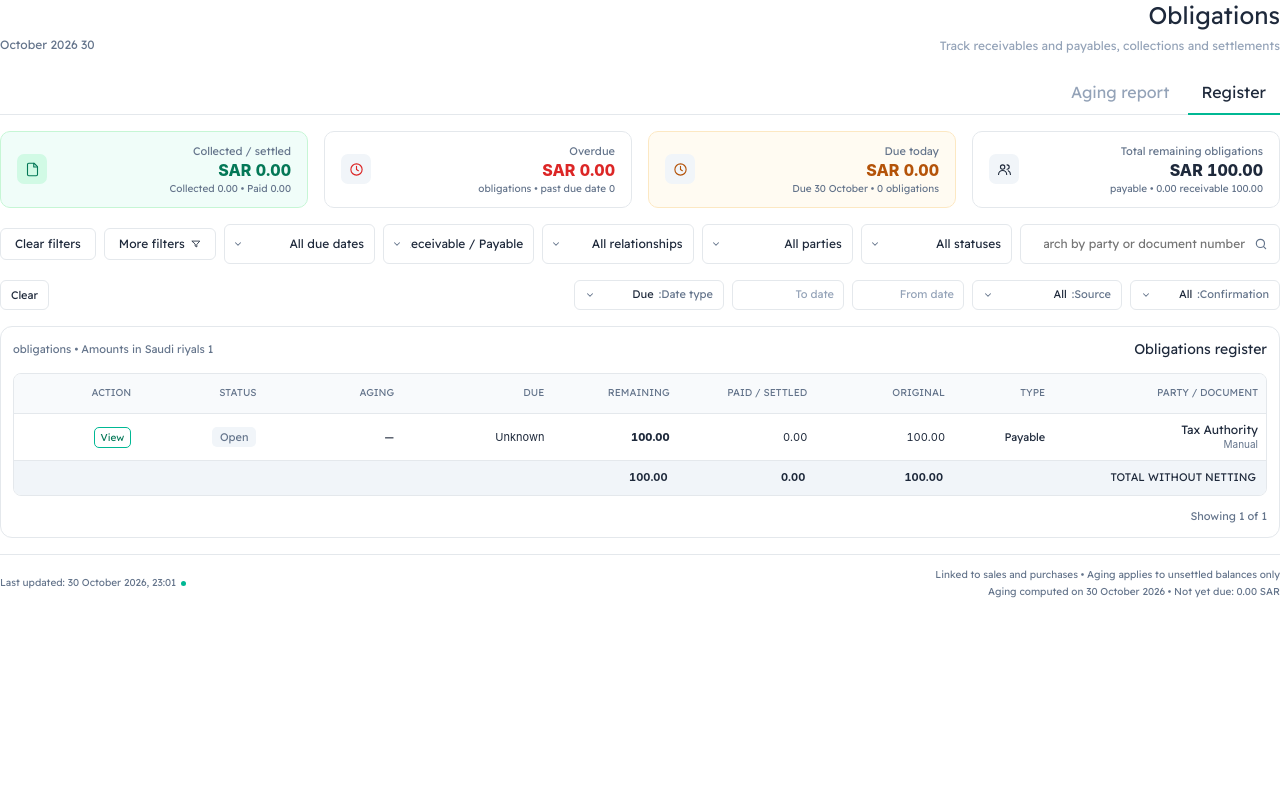
Scenario: D1/G5 government payment details UI › hides them for other counterparty types
Click the cell "Tax Authority Manual" at coordinates (1160, 437), box [1053,414,1266,461]
(page scrolled)
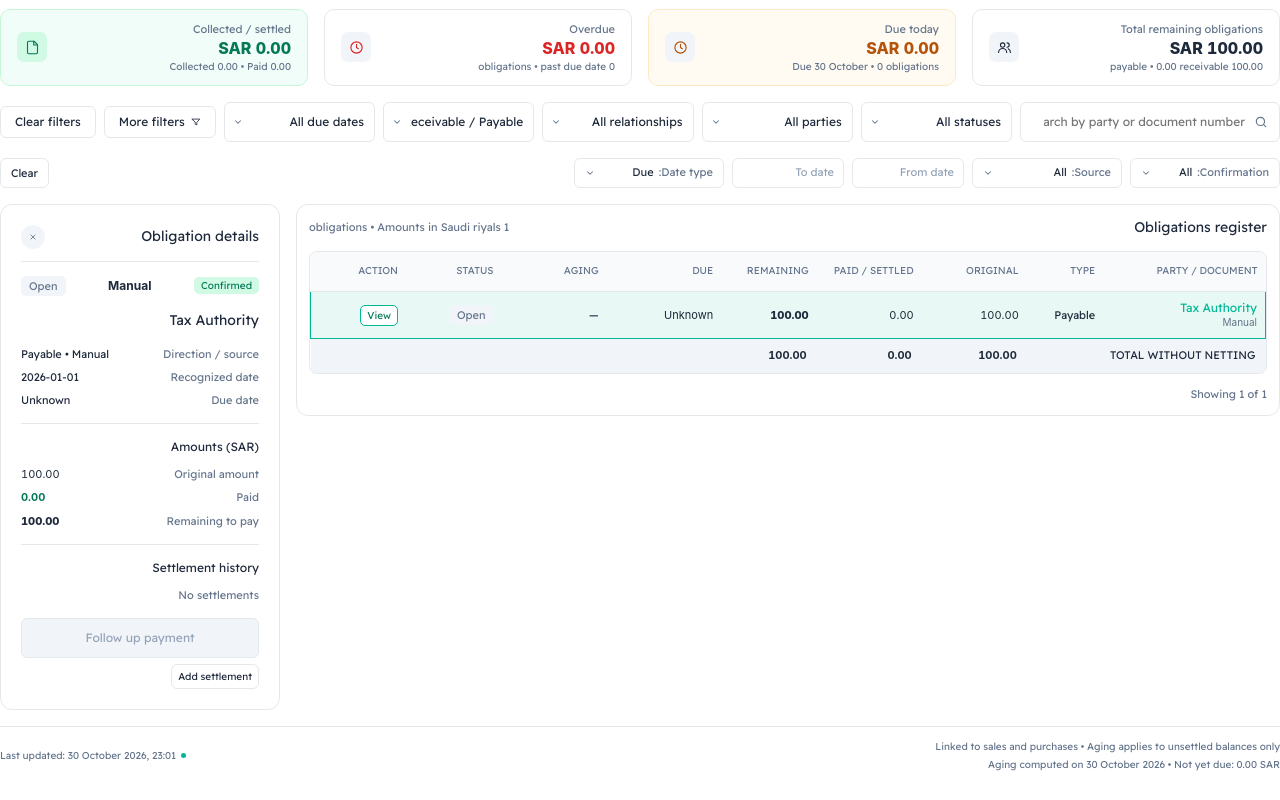
Click the button "Add settlement" at coordinates (215, 677), box [171,664,259,689]
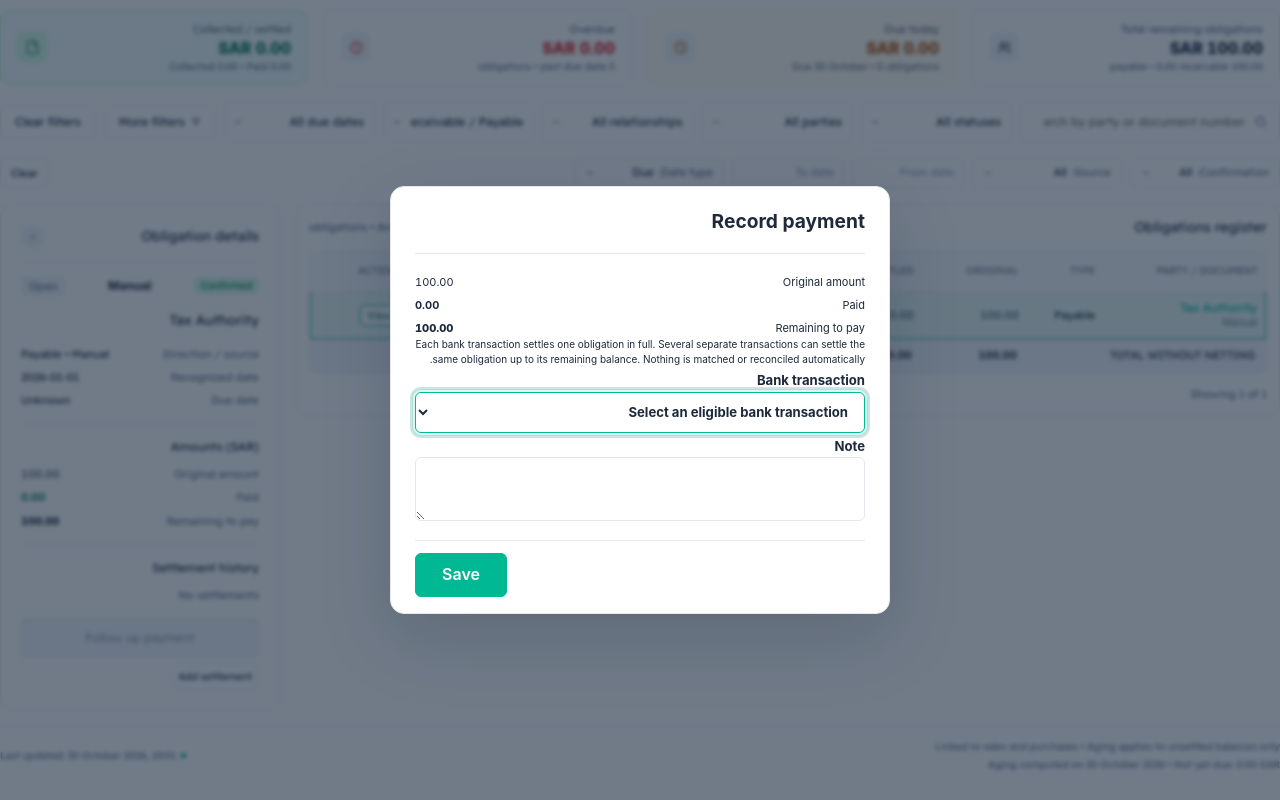
Result: the dropdown labelled "Bank transaction" is shown at [415,392,865,433]
